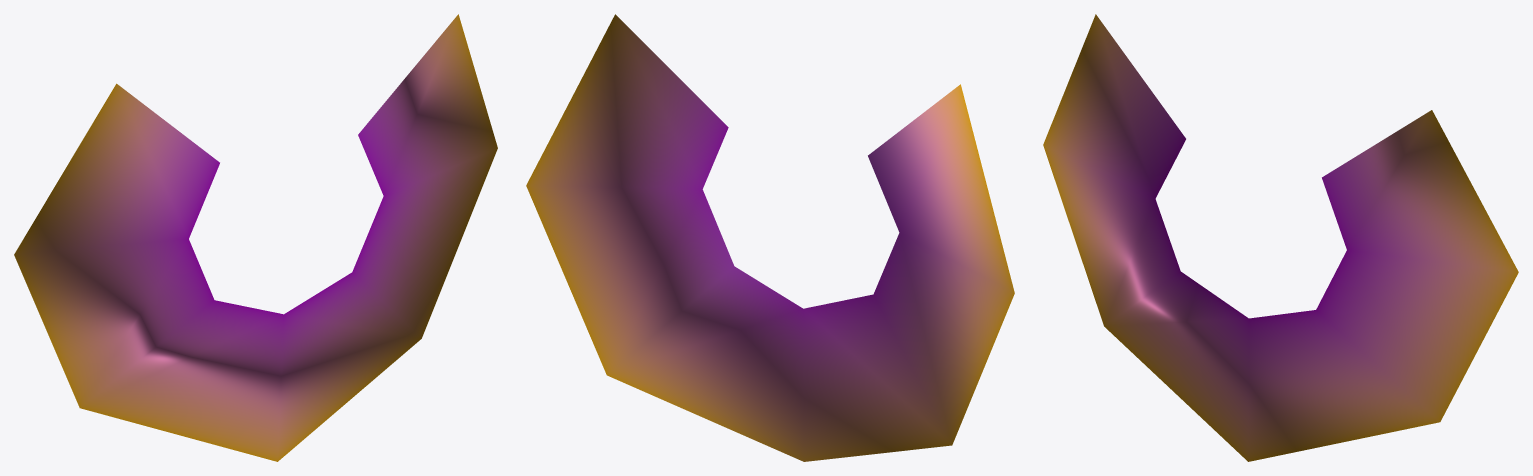
File: pressz.glb
3 renders of one model, left to right at view 1: azimuth 30°, elevation 25°; view 2: azimuth 150°, elevation 25°; view 3: azimuth 330°, elevation 25°, orthographic. The views are drawn at different scales.
Parts seen in each view (by area): view 1: PressZ; view 2: PressZ; view 3: PressZ.
Boxes of the visible parts, x1,y1,x2,y2 form: PressZ: (14,14,497,461); PressZ: (526,14,1014,461); PressZ: (1043,14,1518,461).
Size of the model in its own units: 0.9648 by 0.7905 by 0.1045.
